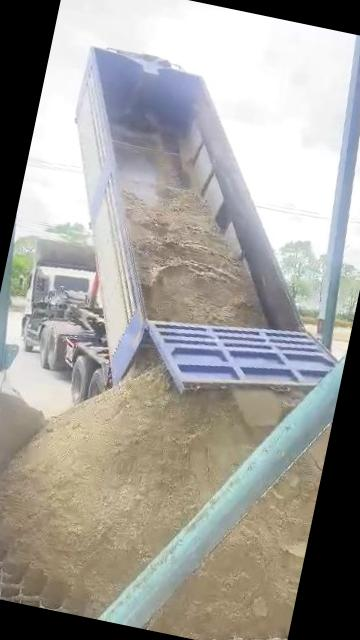sand: (0, 348, 299, 618), (151, 430, 330, 640), (129, 190, 265, 327)
